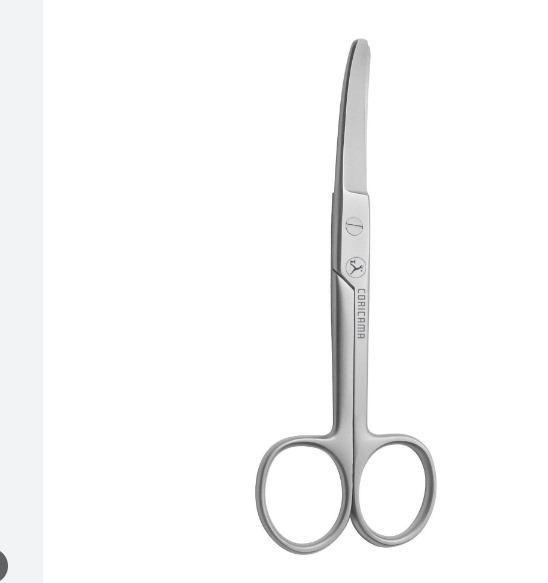Curved Mayo: (254, 32, 449, 537)
